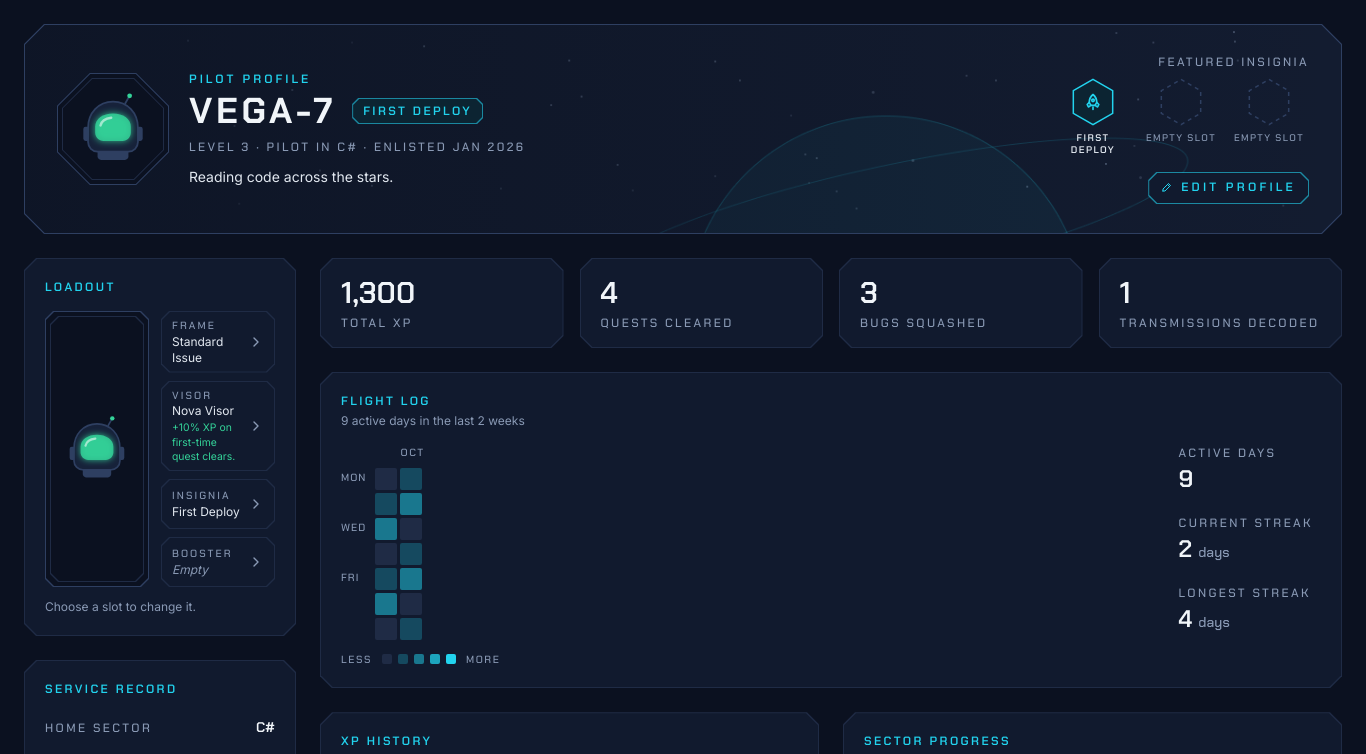
Test: ProfilePage › a changed callsign refreshes the signed-in account
The image size is (1366, 754).
Expected: the heading "Vega-7" is shown, [189, 91, 336, 131]
Click the button "Edit profile".
click(1229, 188)  # box [1148, 172, 1309, 204]
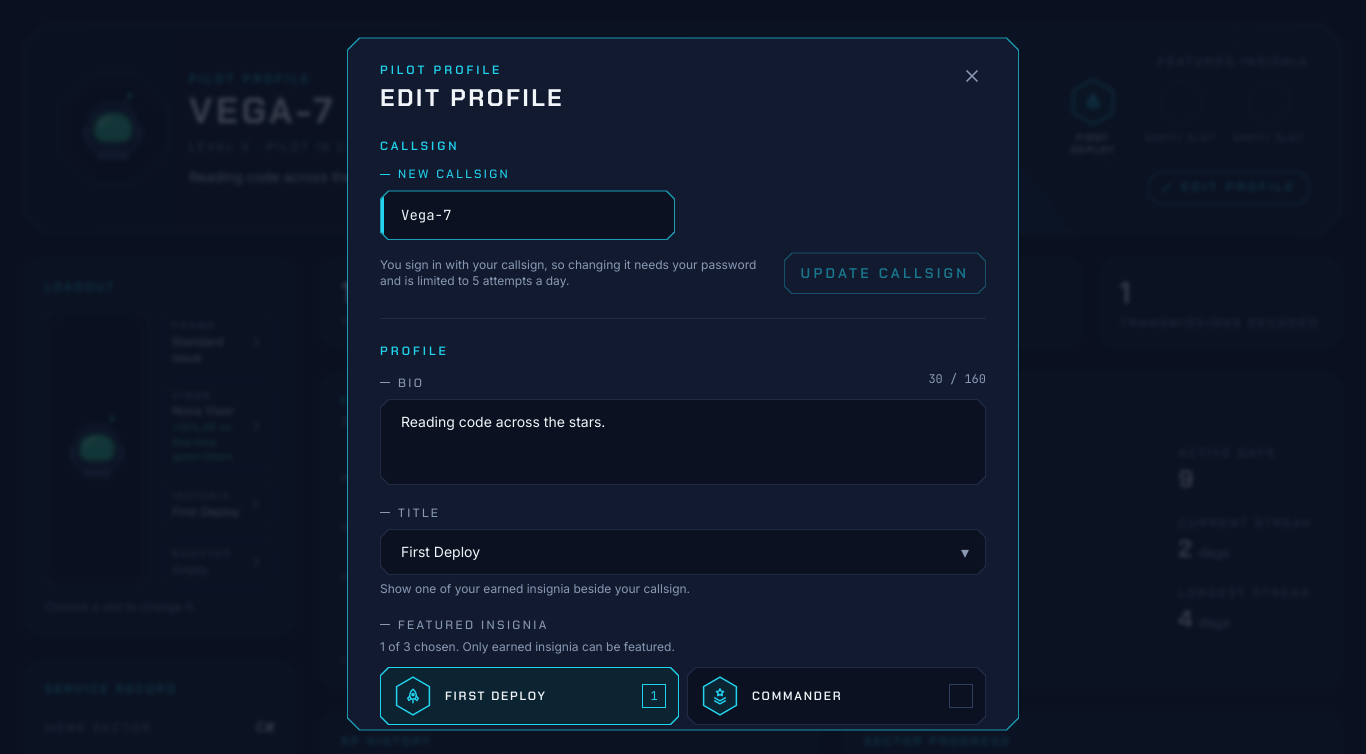
Replace the text in the field labelled "New callsign" with "Orion" at (528, 215), box [381, 191, 674, 239]
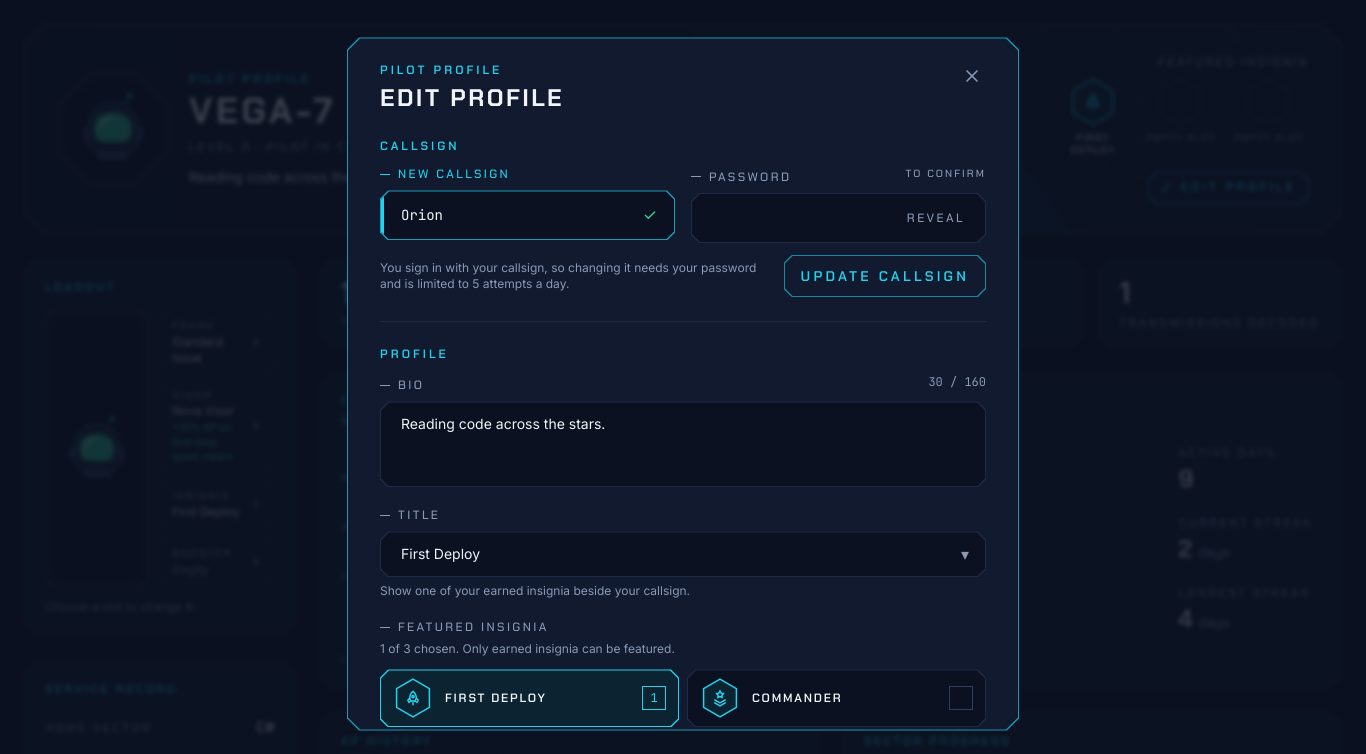
Type "access123" into the password field labelled "Password".
click(793, 218); type("access123")  # box [692, 194, 895, 242]
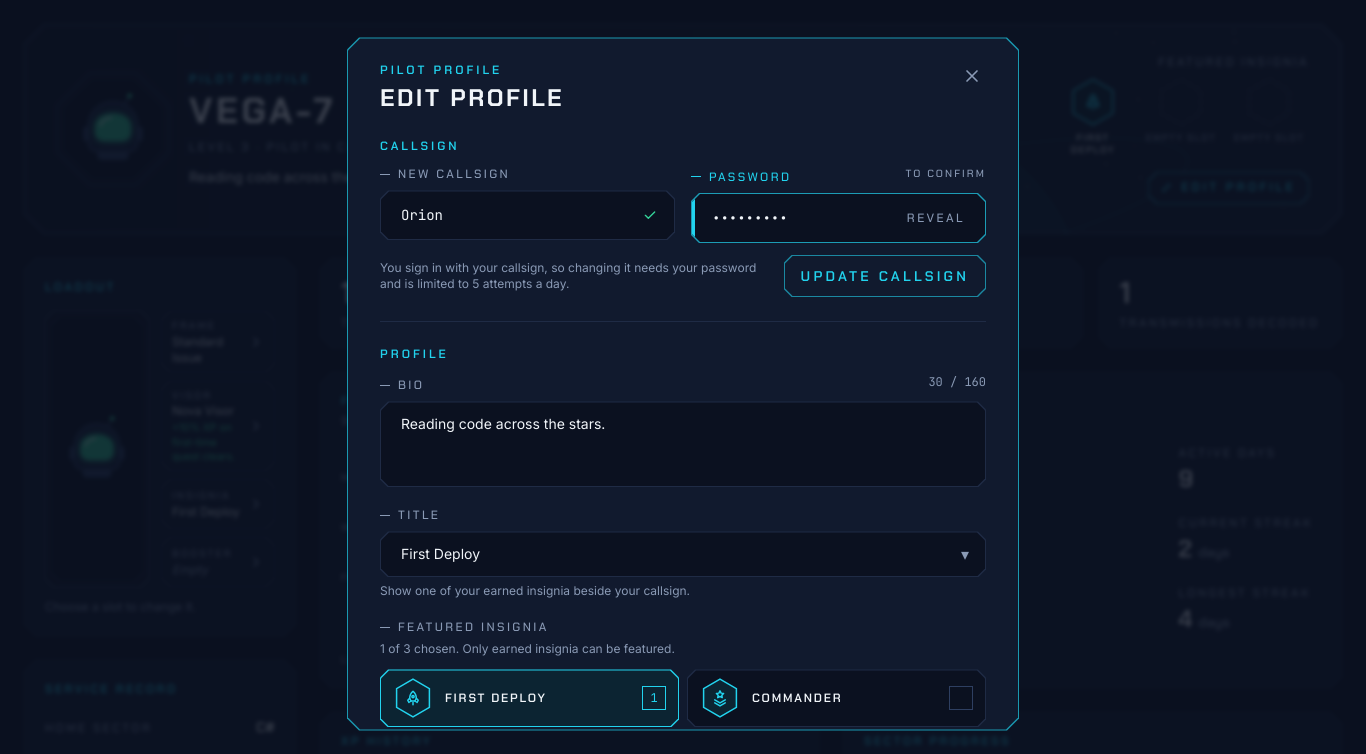
Click the button "Update callsign".
click(885, 276)  # box [784, 255, 986, 297]
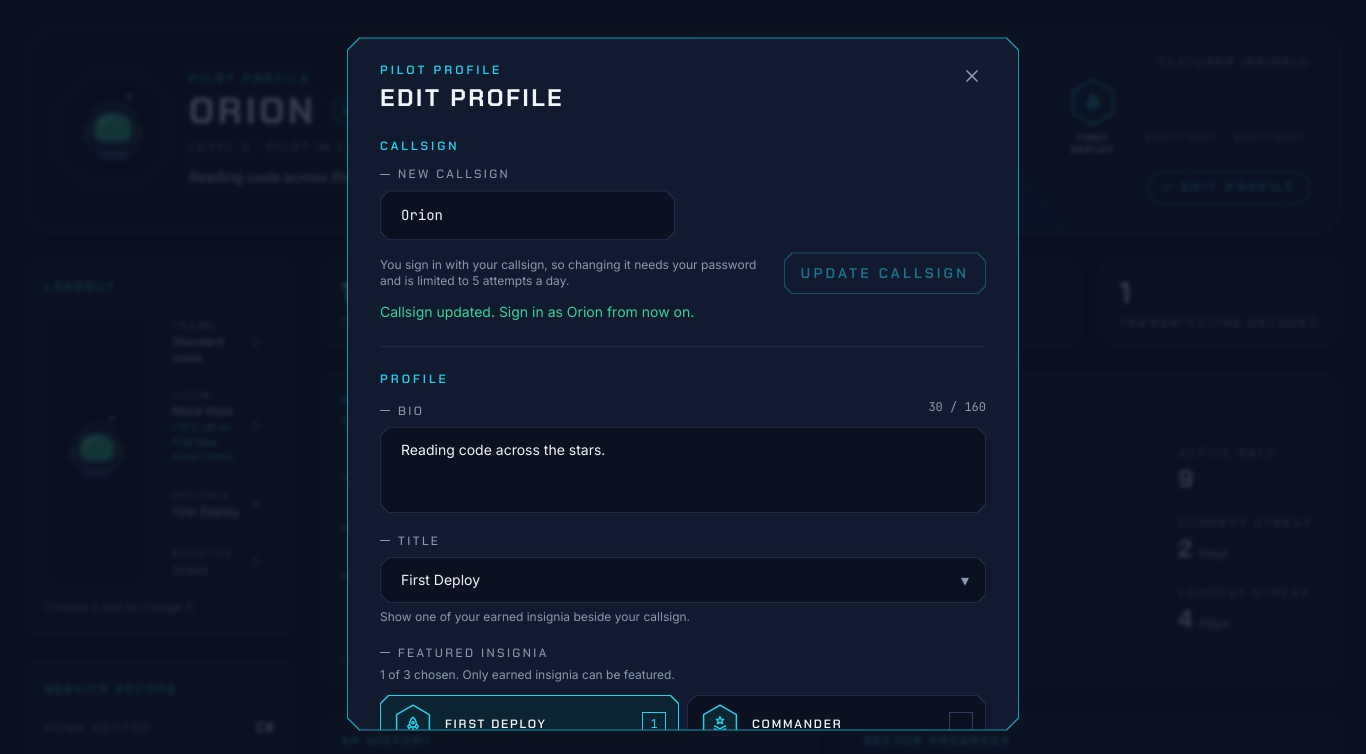
Expected: the text "Callsign updated. Sign in as Orion from now on." is shown, [380, 303, 694, 320]
Expected: the heading "Orion" is shown, [189, 91, 317, 131]
